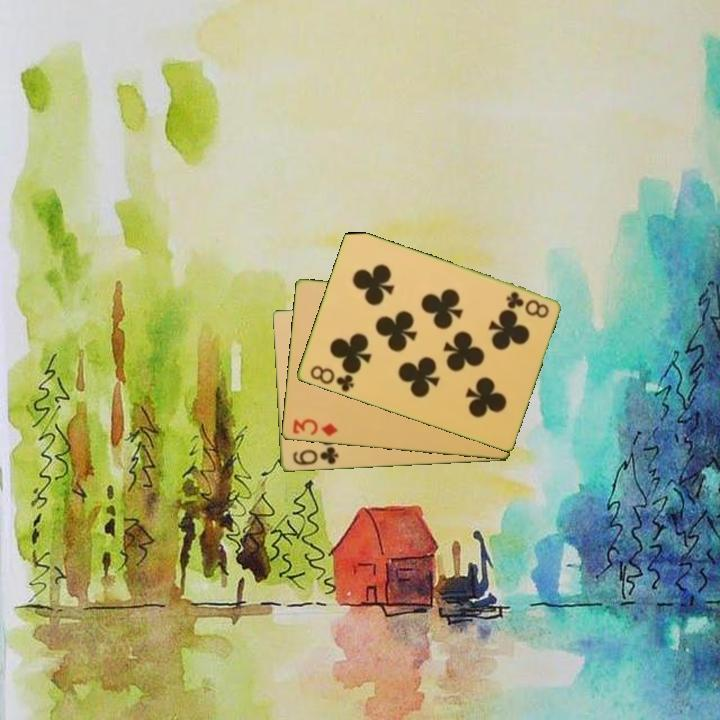3d: (289, 416, 340, 439)
6c: (289, 444, 341, 468)
8c: (306, 362, 357, 395), (502, 288, 552, 321)
